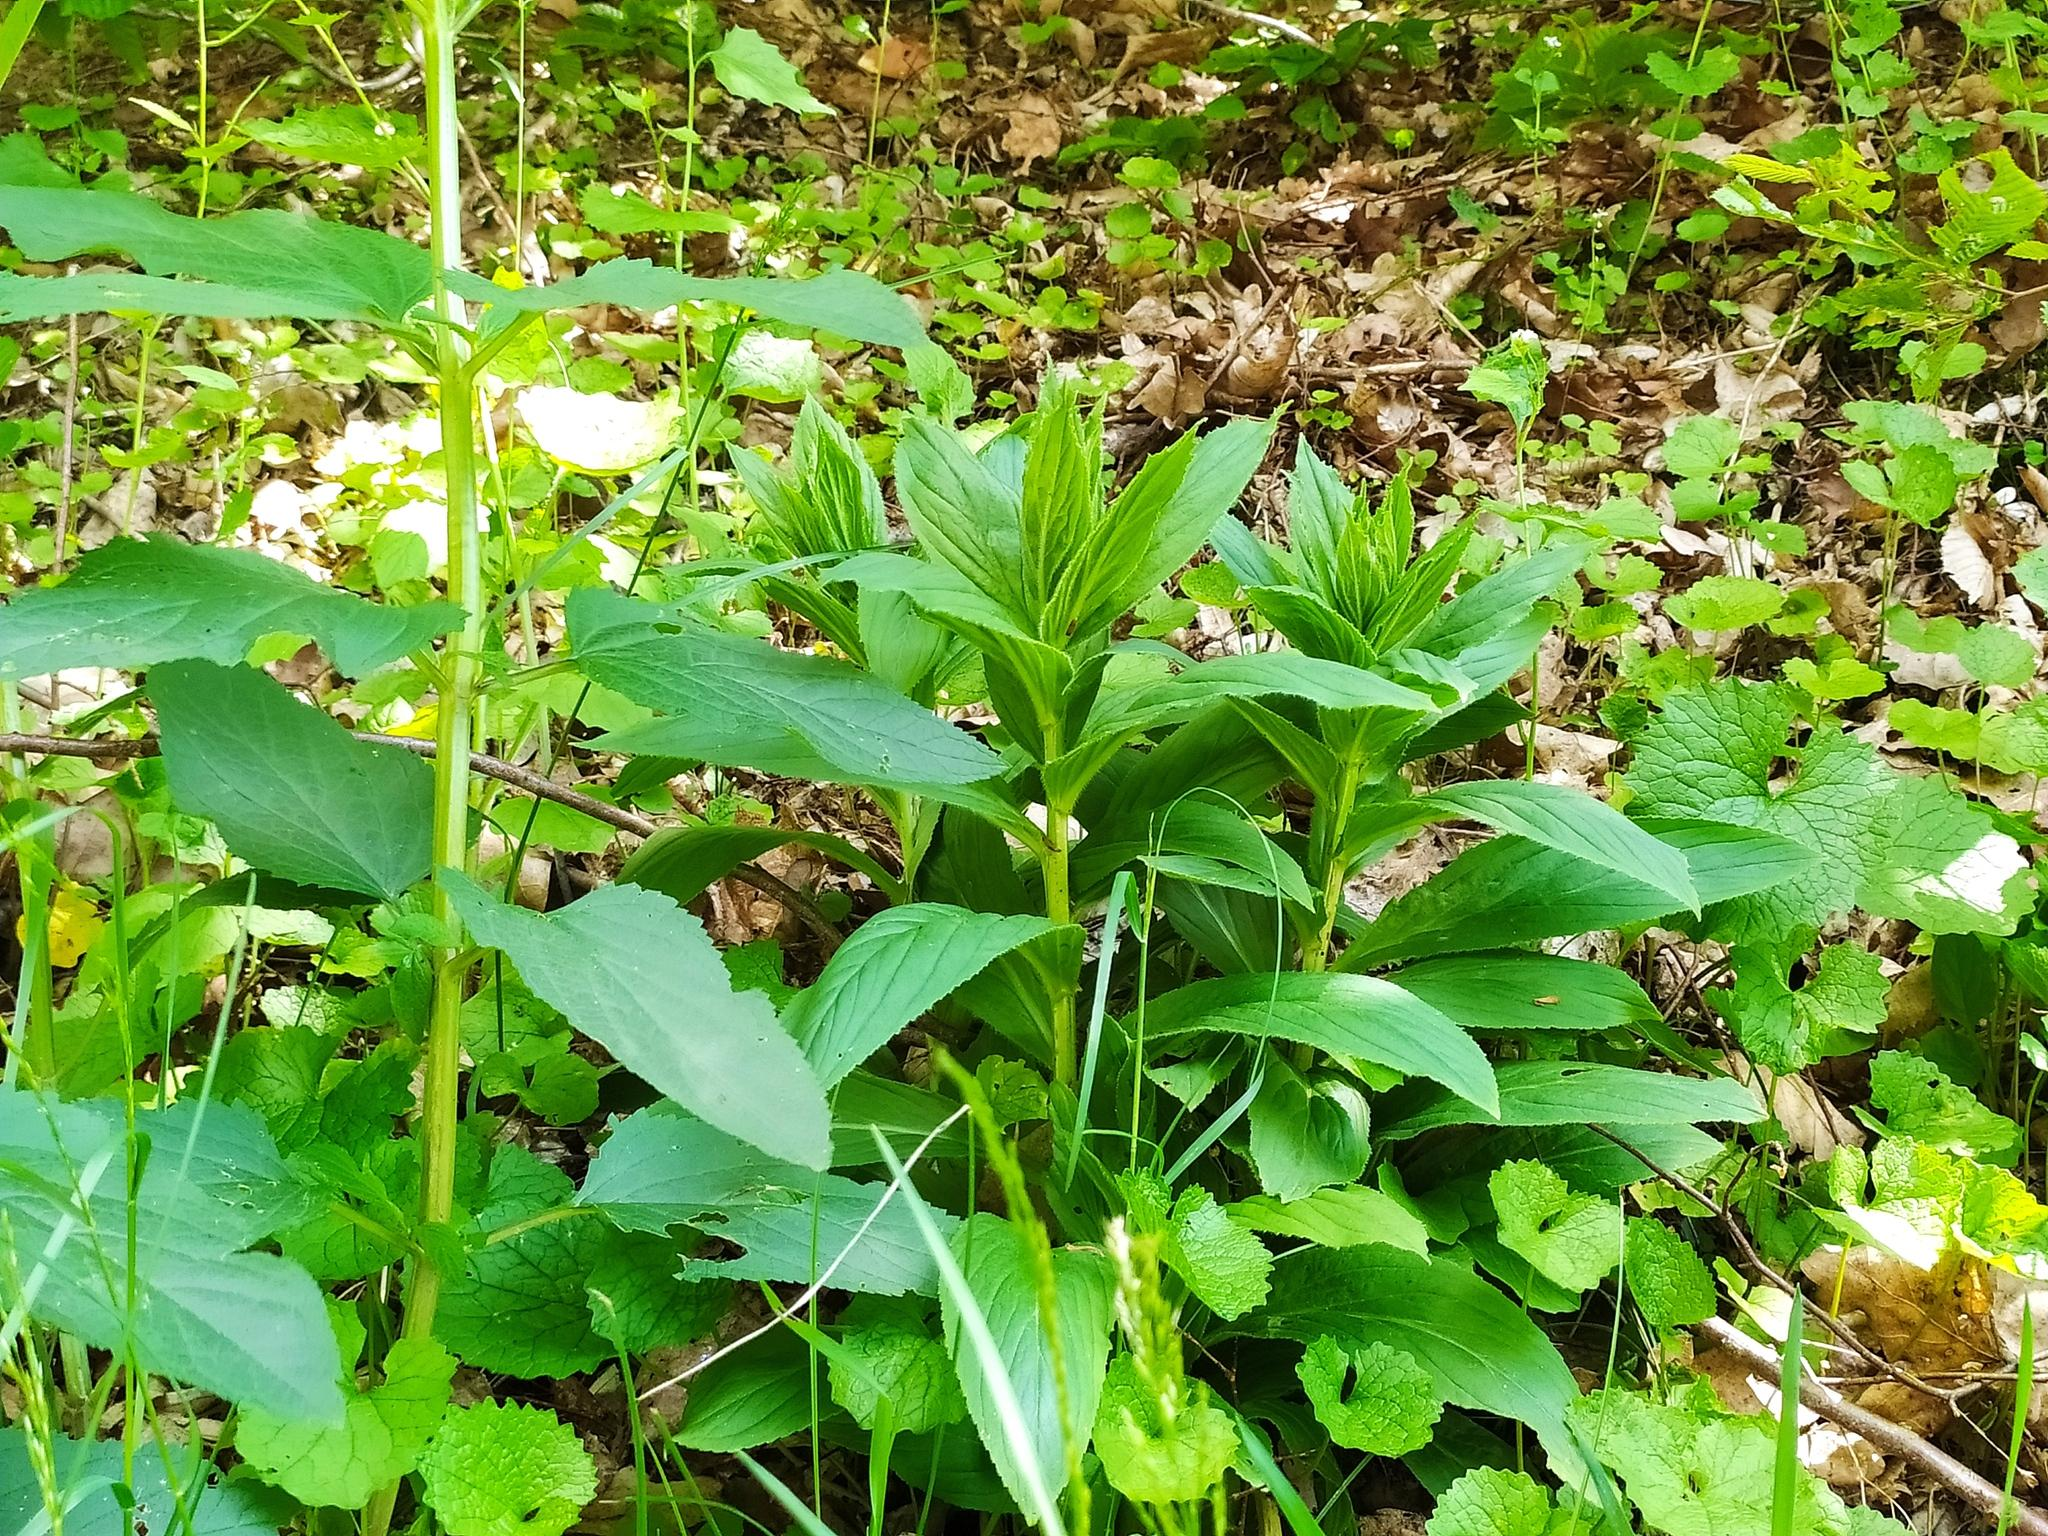Digitalis L: (639, 410, 1798, 1455)
